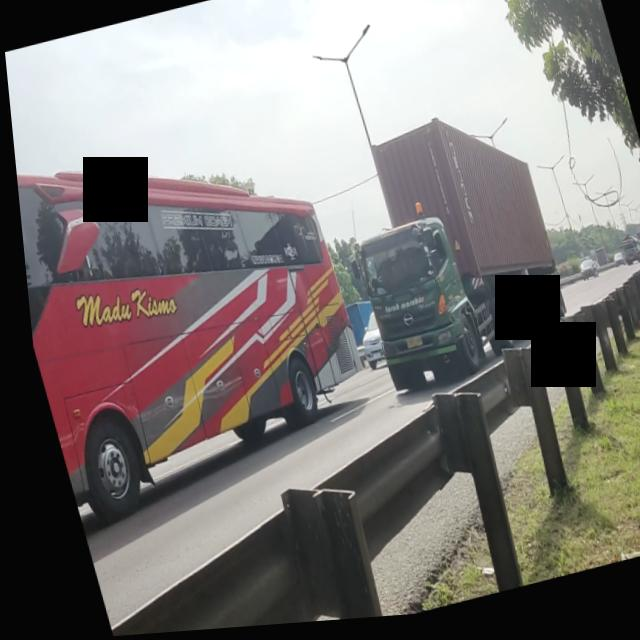Golongan I: (9, 94, 383, 544)
Golongan V: (320, 138, 575, 409)
